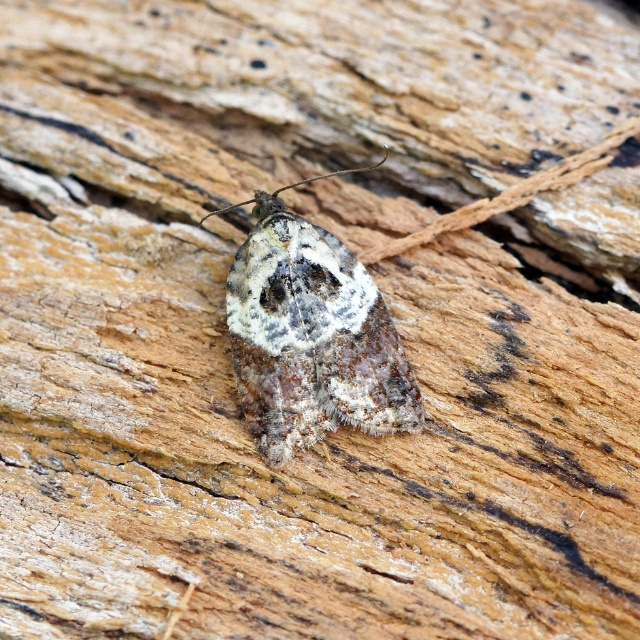Moths and butterflies: (203, 146, 427, 476)
